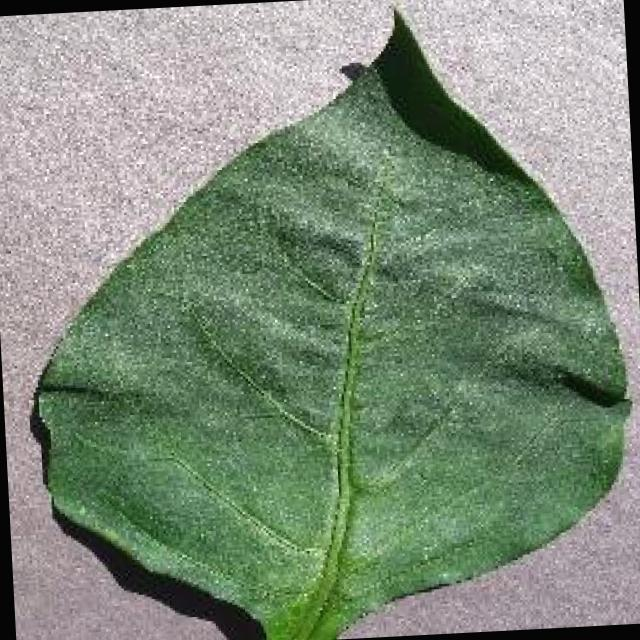Leaf: (20, 7, 639, 620)
